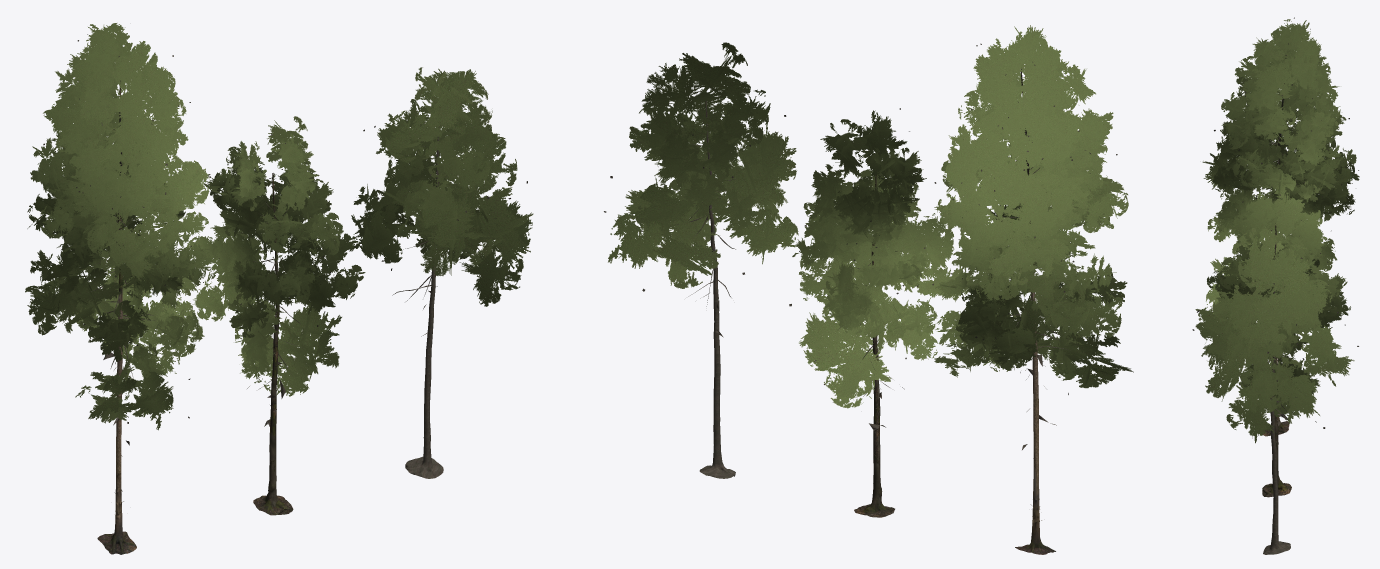
File: fir_tree_01_nah.gltf
The picture shows the model from 3 angles, left to right: view 1: azimuth 30°, elevation 25°; view 2: azimuth 150°, elevation 25°; view 3: azimuth 270°, elevation 25°; orthographic projection. The views are drawn at different scales.
Visible parts, largest first — view 1: baum; view 2: baum; view 3: baum.
Boxes of the visible parts, x1,y1,x2,y2 form: baum: (25, 23, 533, 554); baum: (604, 25, 1133, 554); baum: (1192, 17, 1359, 554).
Bounding box in the file's own units: 19.83 × 19.38 × 7.92.
Materials: 6 (6 with a texture image).
